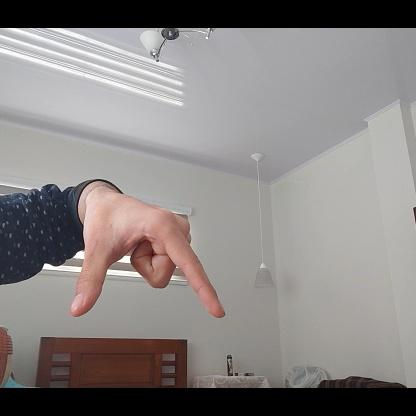Q: (71, 196, 227, 318)
